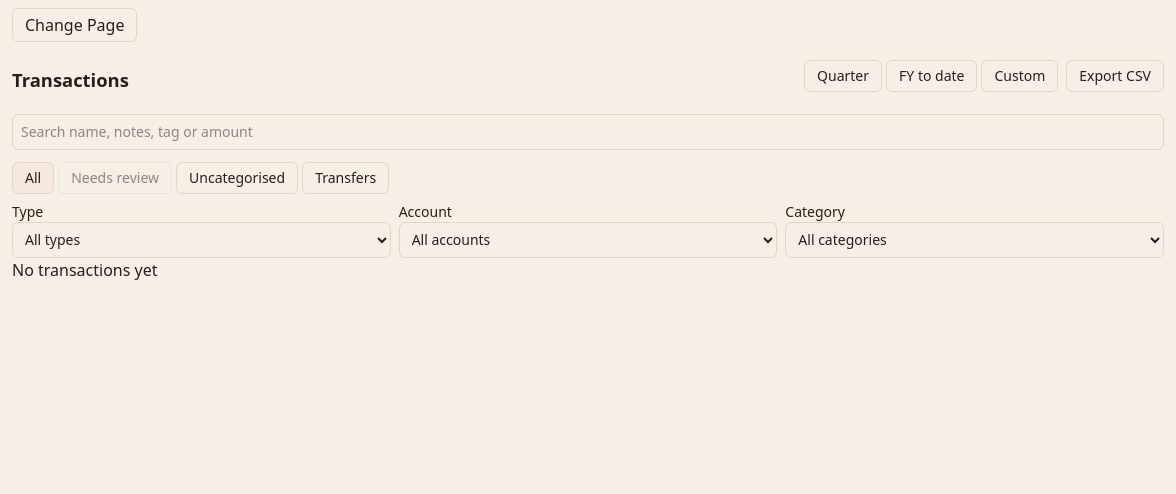
Test: TransactionList search box › puts what is typed into q after a pause, fetching once, and clears it with Clear filters
In the search field named "Search transactions": (588, 132) [12,114,1164,150], type "  plumb "
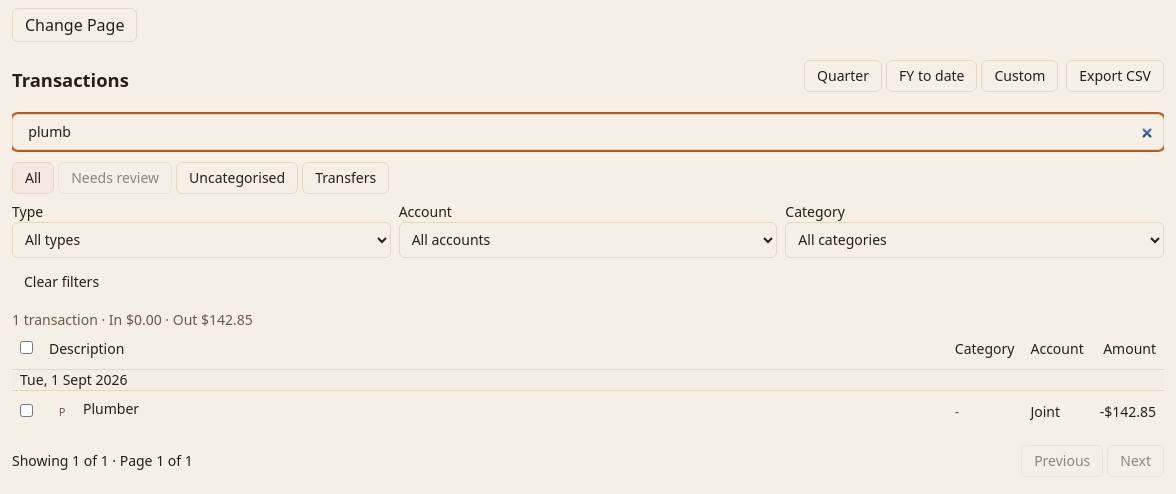
Expected: the button "Plumber" is shown, [83,399,139,419]
Click the button "Clear filters": (62, 282) [12,266,111,298]
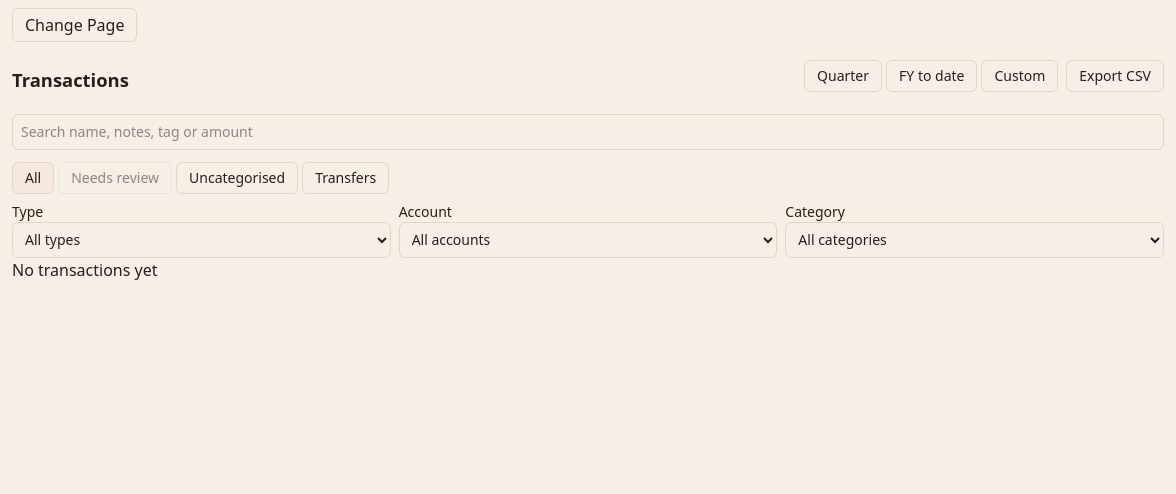
Expected: the search field named "Search transactions" is empty, [12,114,1164,150]
